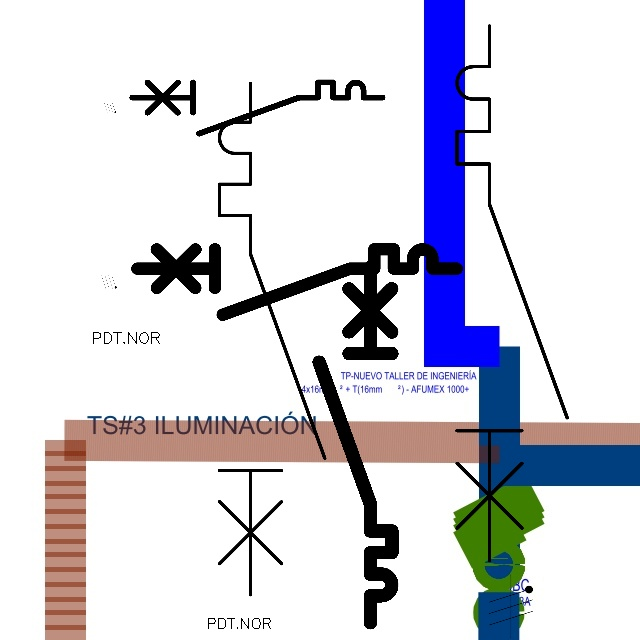interruptor_termomagnetico: (443, 12, 580, 574), (206, 70, 338, 608), (310, 258, 401, 632), (129, 241, 465, 323), (125, 76, 388, 140)
